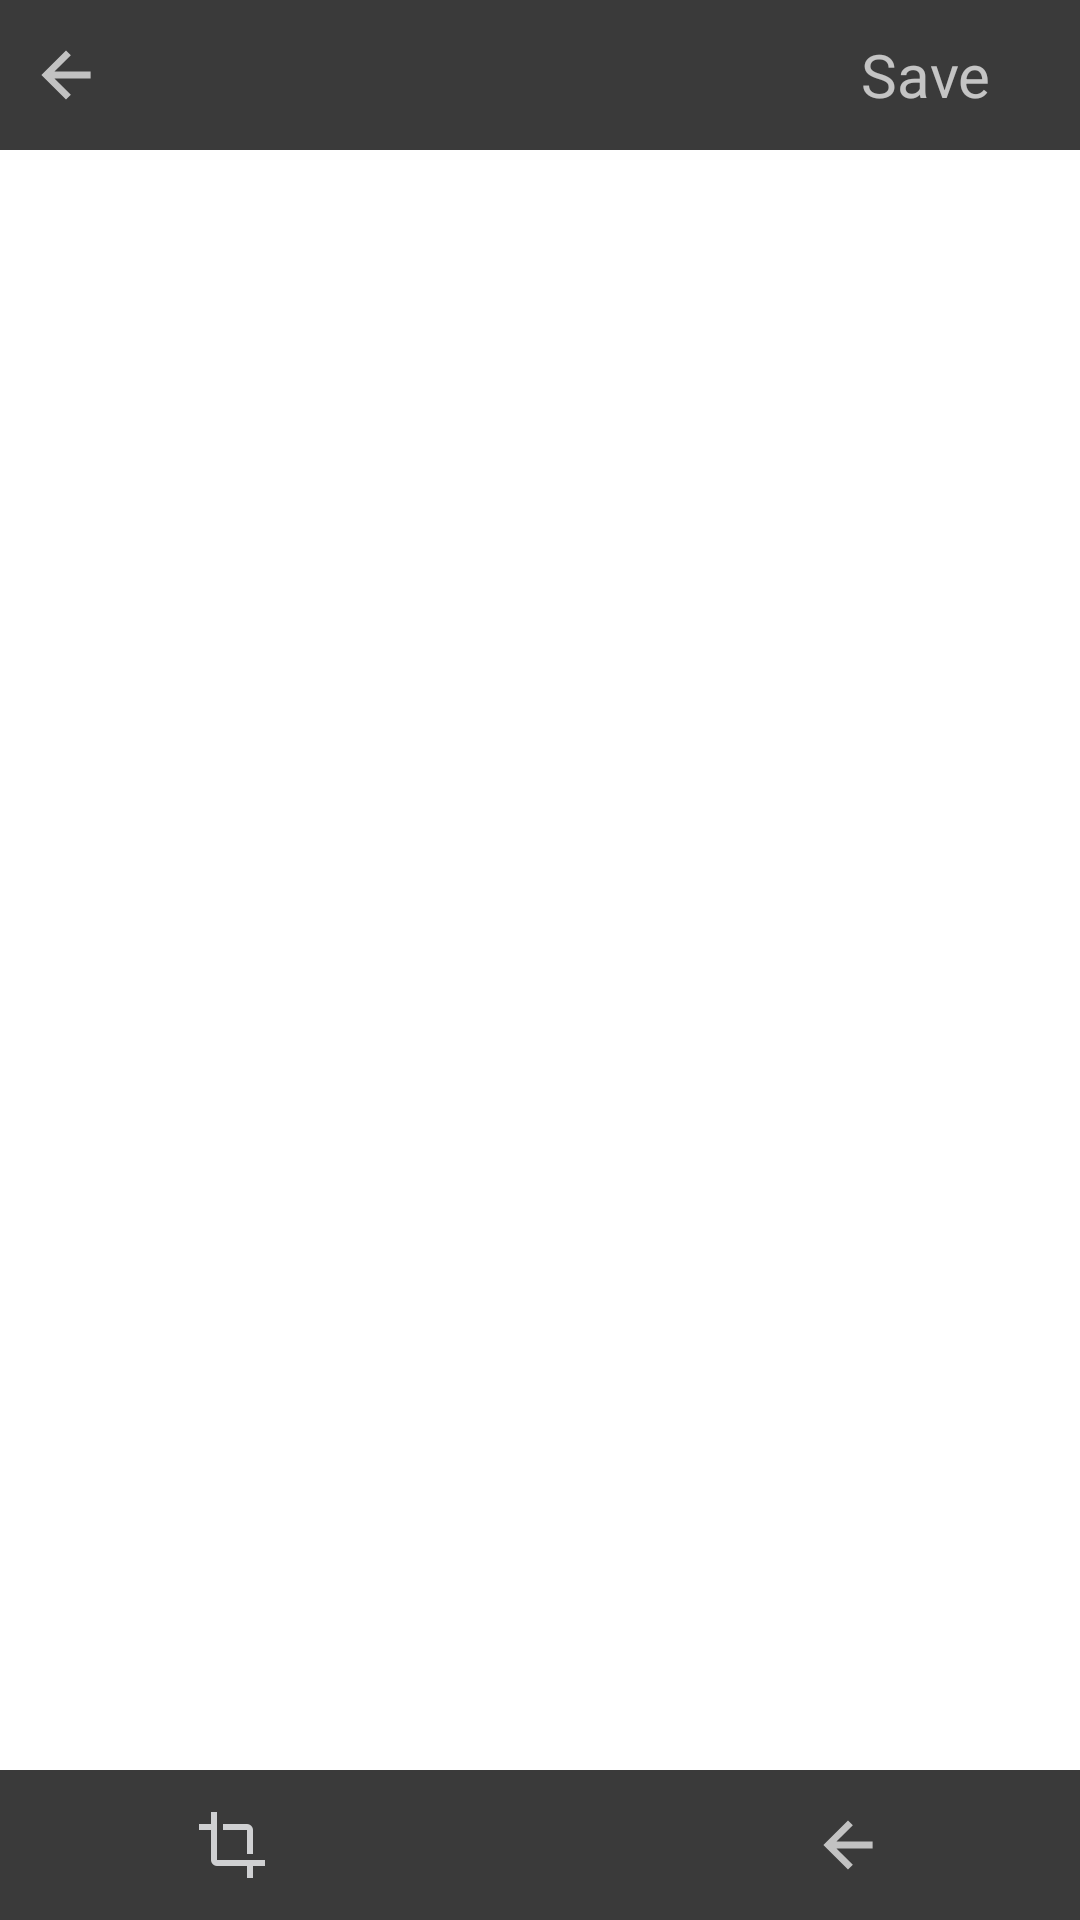

Screen size 1080 x 1920. Icon name, then its center in pixels as point (x, y):
back: point (66, 75), point (848, 1845)
crop: point (232, 1845)
